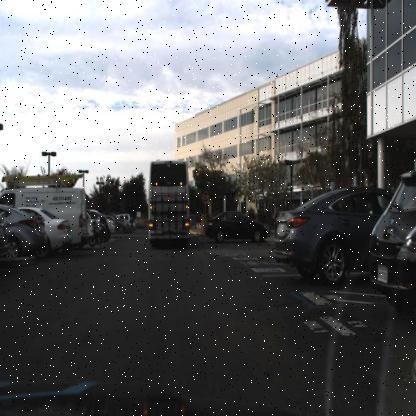car: (271, 174, 383, 286), (368, 165, 415, 315), (1, 202, 48, 261), (204, 208, 271, 247), (204, 209, 272, 242), (9, 204, 48, 253), (44, 200, 72, 257), (84, 207, 114, 242), (48, 212, 73, 252)
truck: (146, 154, 193, 250), (66, 172, 86, 251), (70, 182, 88, 246)
